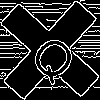Q: (25, 25, 86, 87)
